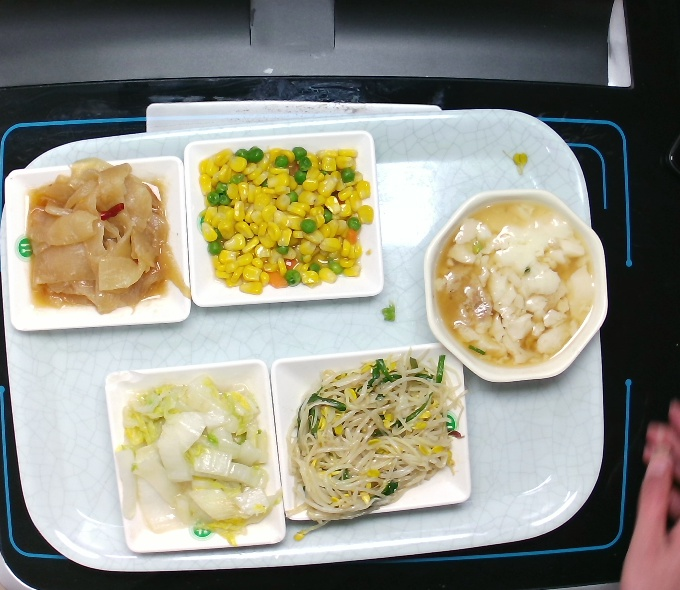wcq-DaBaiCai: (111, 369, 288, 554)
wcq-DongGua: (15, 153, 199, 319)
wcq-DouYa: (278, 345, 474, 546)
wcq-ShuiZhengDan: (428, 197, 603, 376)
wcq-TianMiTianDou: (193, 141, 379, 299)
